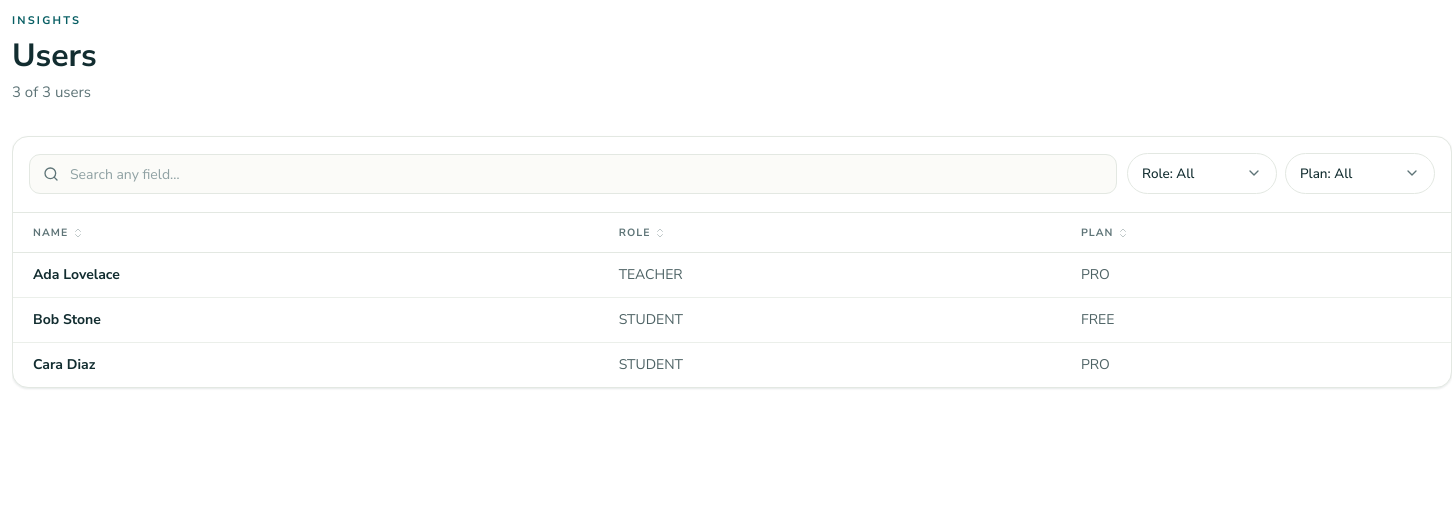
Scenario: DataTable › offers a way back from a search that matches nothing
The image size is (1452, 514).
Type "zzz" into the field with placeholder "Search any field…".
click(573, 174); type("zzz")  # box [29,154,1117,194]
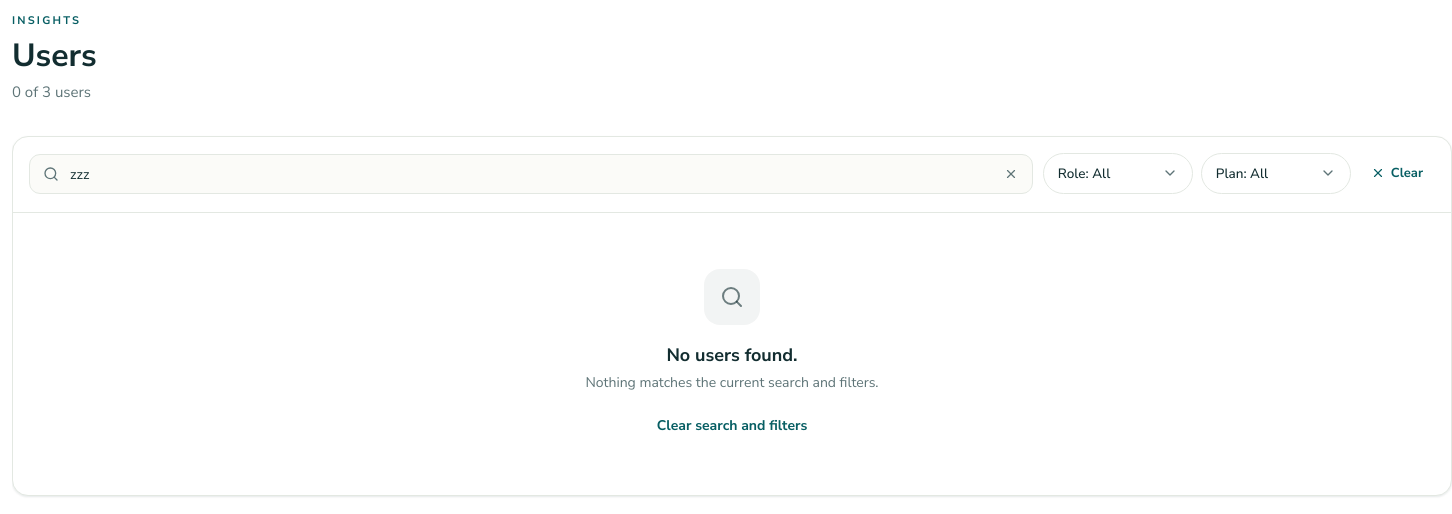
expect the text "No users found." is shown: met, box [666,341,798,369]
Click the button "Clear search and filters".
click(732, 426)  # box [657,416,807,436]
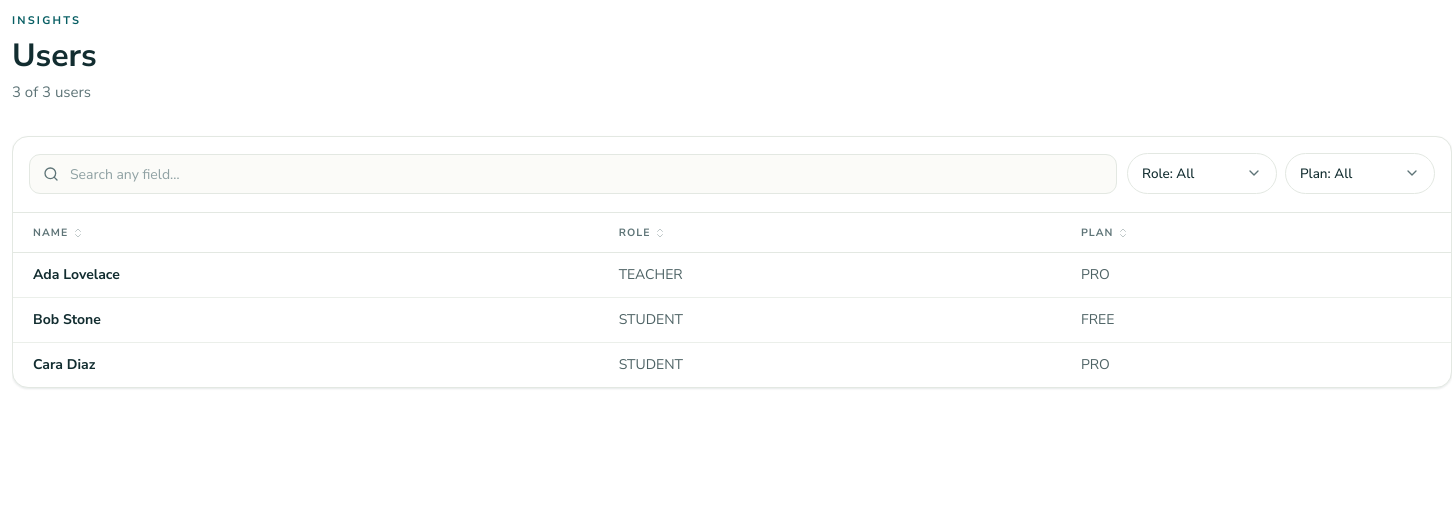
expect the text "3 of 3 users" is shown: met, box [12,82,91,102]
